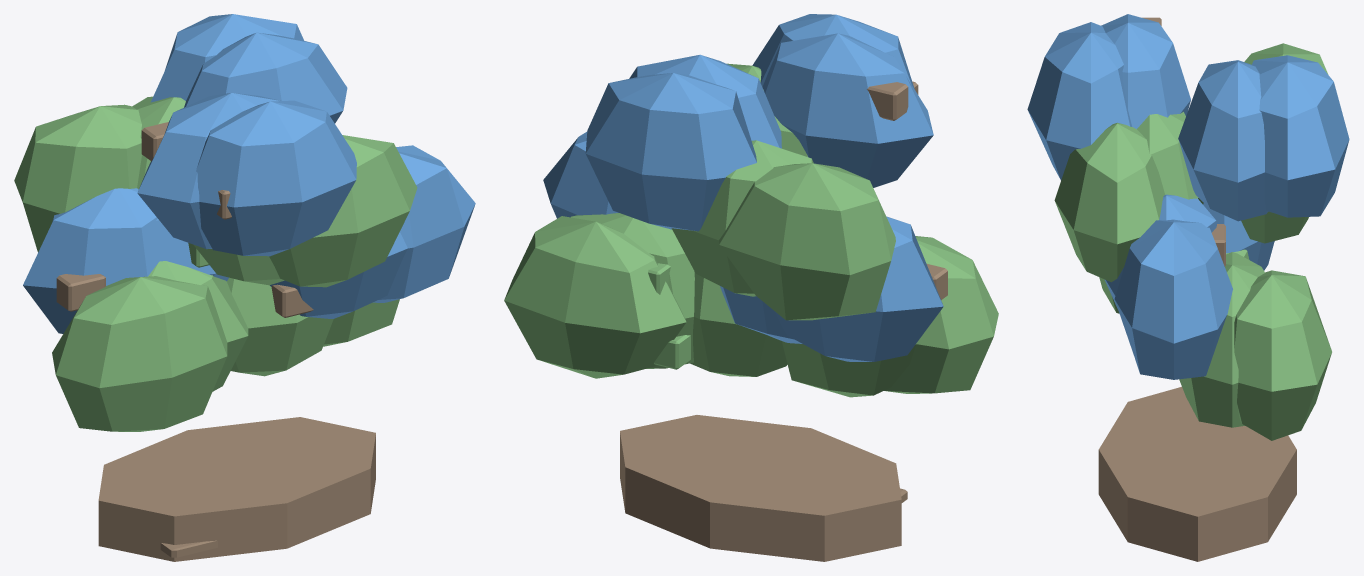
Rendered from b08_salvia_border.glb.
3 renders of one model, left to right at view 1: azimuth 30°, elevation 25°; view 2: azimuth 150°, elevation 25°; view 3: azimuth 270°, elevation 25°, orthographic. The views are drawn at different scales.
Parts seen in each view (by area): view 1: b08_salvia_border; view 2: b08_salvia_border; view 3: b08_salvia_border.
Boxes of the visible parts, x1,y1,x2,y2 form: b08_salvia_border: (14,14,475,561); b08_salvia_border: (504,14,998,561); b08_salvia_border: (1027,14,1349,561).
Size of the model in its own units: 0.74 by 0.745 by 0.481.
